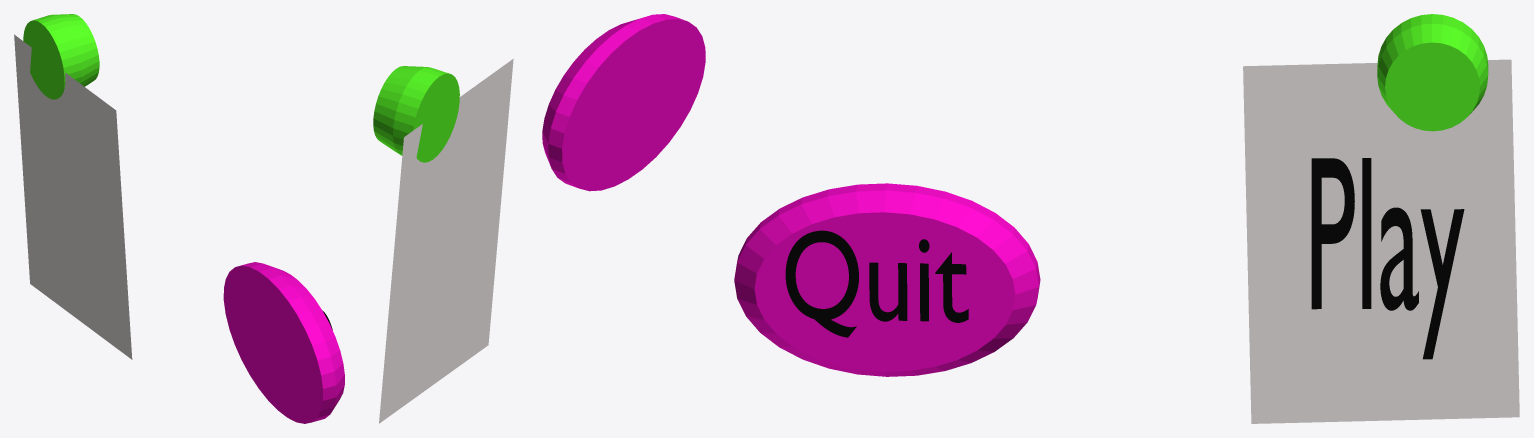
Rendered from Play-and-quit-buttons.fbx.
3 views of the same model, side by side, from view 1: azimuth 30°, elevation 25°; view 2: azimuth 150°, elevation 25°; view 3: azimuth 270°, elevation 25° (orthographic). The views are drawn at different scales.
Visible parts, largest first — view 1: Plane.001, Circle.006; view 2: Plane.001, Circle.006; view 3: Plane.001, Circle.006, Text.001, Text.
Part boxes in pixels (<box>): Plane.001: <box>14,14,132,359</box>; Circle.006: <box>223,262,344,423</box>; Plane.001: <box>373,59,513,423</box>; Circle.006: <box>542,14,705,191</box>; Plane.001: <box>1243,14,1519,423</box>; Circle.006: <box>734,183,1040,376</box>; Text.001: <box>1311,158,1464,359</box>; Text: <box>785,230,968,337</box>.
Bounding box in the file's own units: 15.5 × 67.16 × 121.
